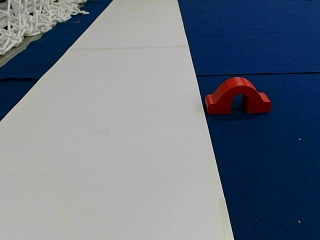bridge: (207, 77, 270, 112)
